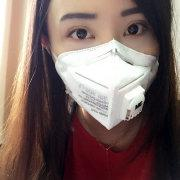OK: (57, 13, 162, 118)
